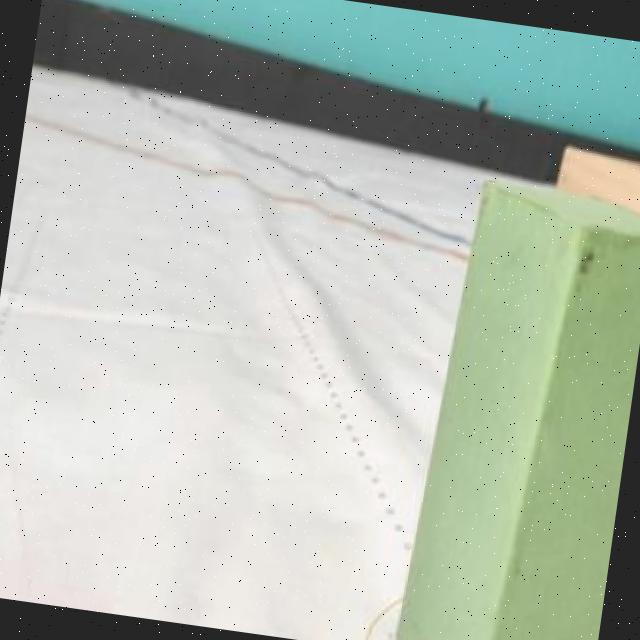greenbox: (391, 169, 640, 640)
